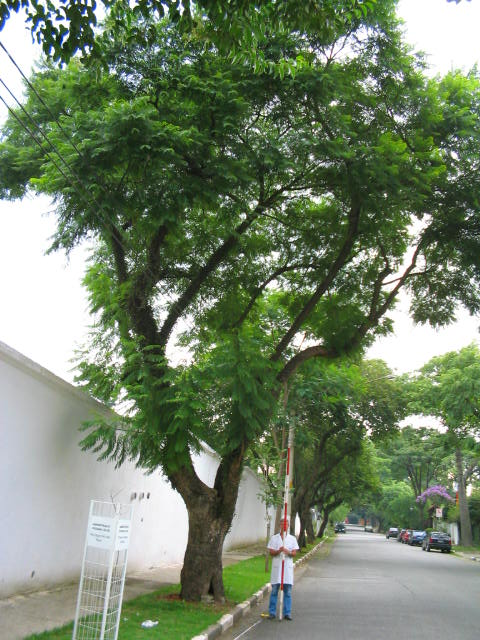crown: (6, 6, 477, 471)
stem: (163, 503, 243, 601)
stick: (272, 447, 297, 619)
tree: (4, 4, 478, 602)
